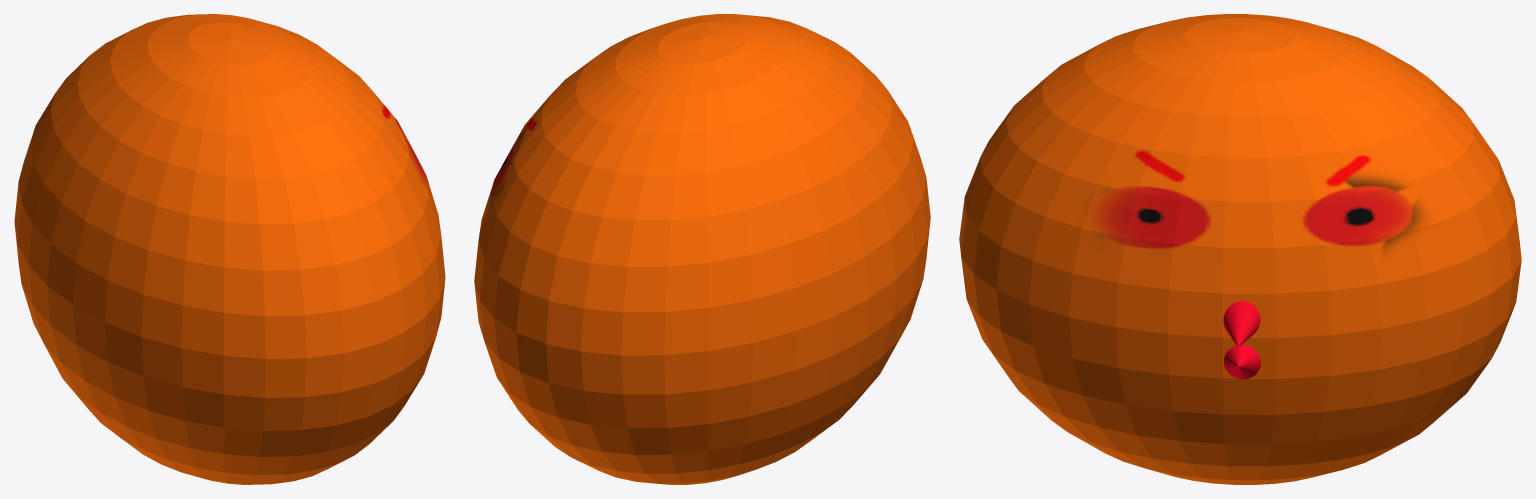
The model's file is enemy.obj.
3 renders of one model, left to right at view 1: azimuth 30°, elevation 25°; view 2: azimuth 150°, elevation 25°; view 3: azimuth 270°, elevation 25°, orthographic. The views are drawn at different scales.
Visible parts, largest first — view 1: Sphere; view 2: Sphere; view 3: Sphere, Cone.001, Cone.
Part boxes in pixels (bbox=[...]): Sphere: bbox=[14, 14, 445, 484]; Sphere: bbox=[474, 14, 930, 484]; Sphere: bbox=[959, 14, 1521, 484]; Cone.001: bbox=[1223, 301, 1260, 347]; Cone: bbox=[1224, 345, 1260, 379].
Size of the model in its own units: 1.45 by 1.54 by 1.8.
